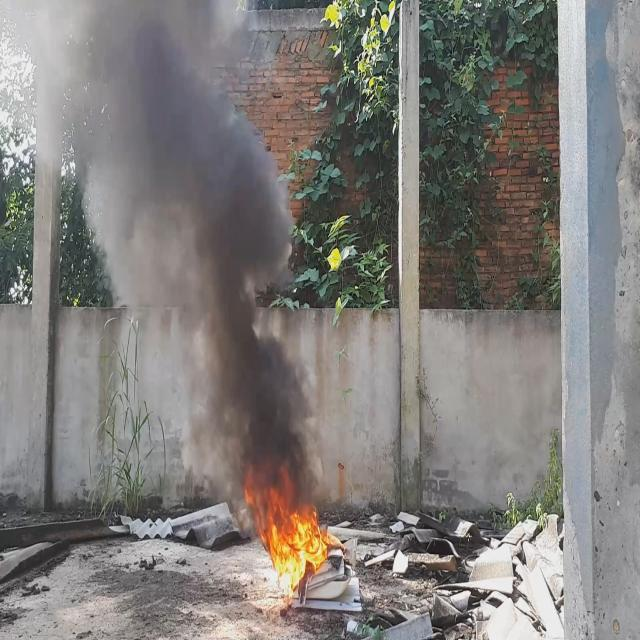Fire: (240, 476, 330, 594)
Smoke: (0, 0, 320, 522)
